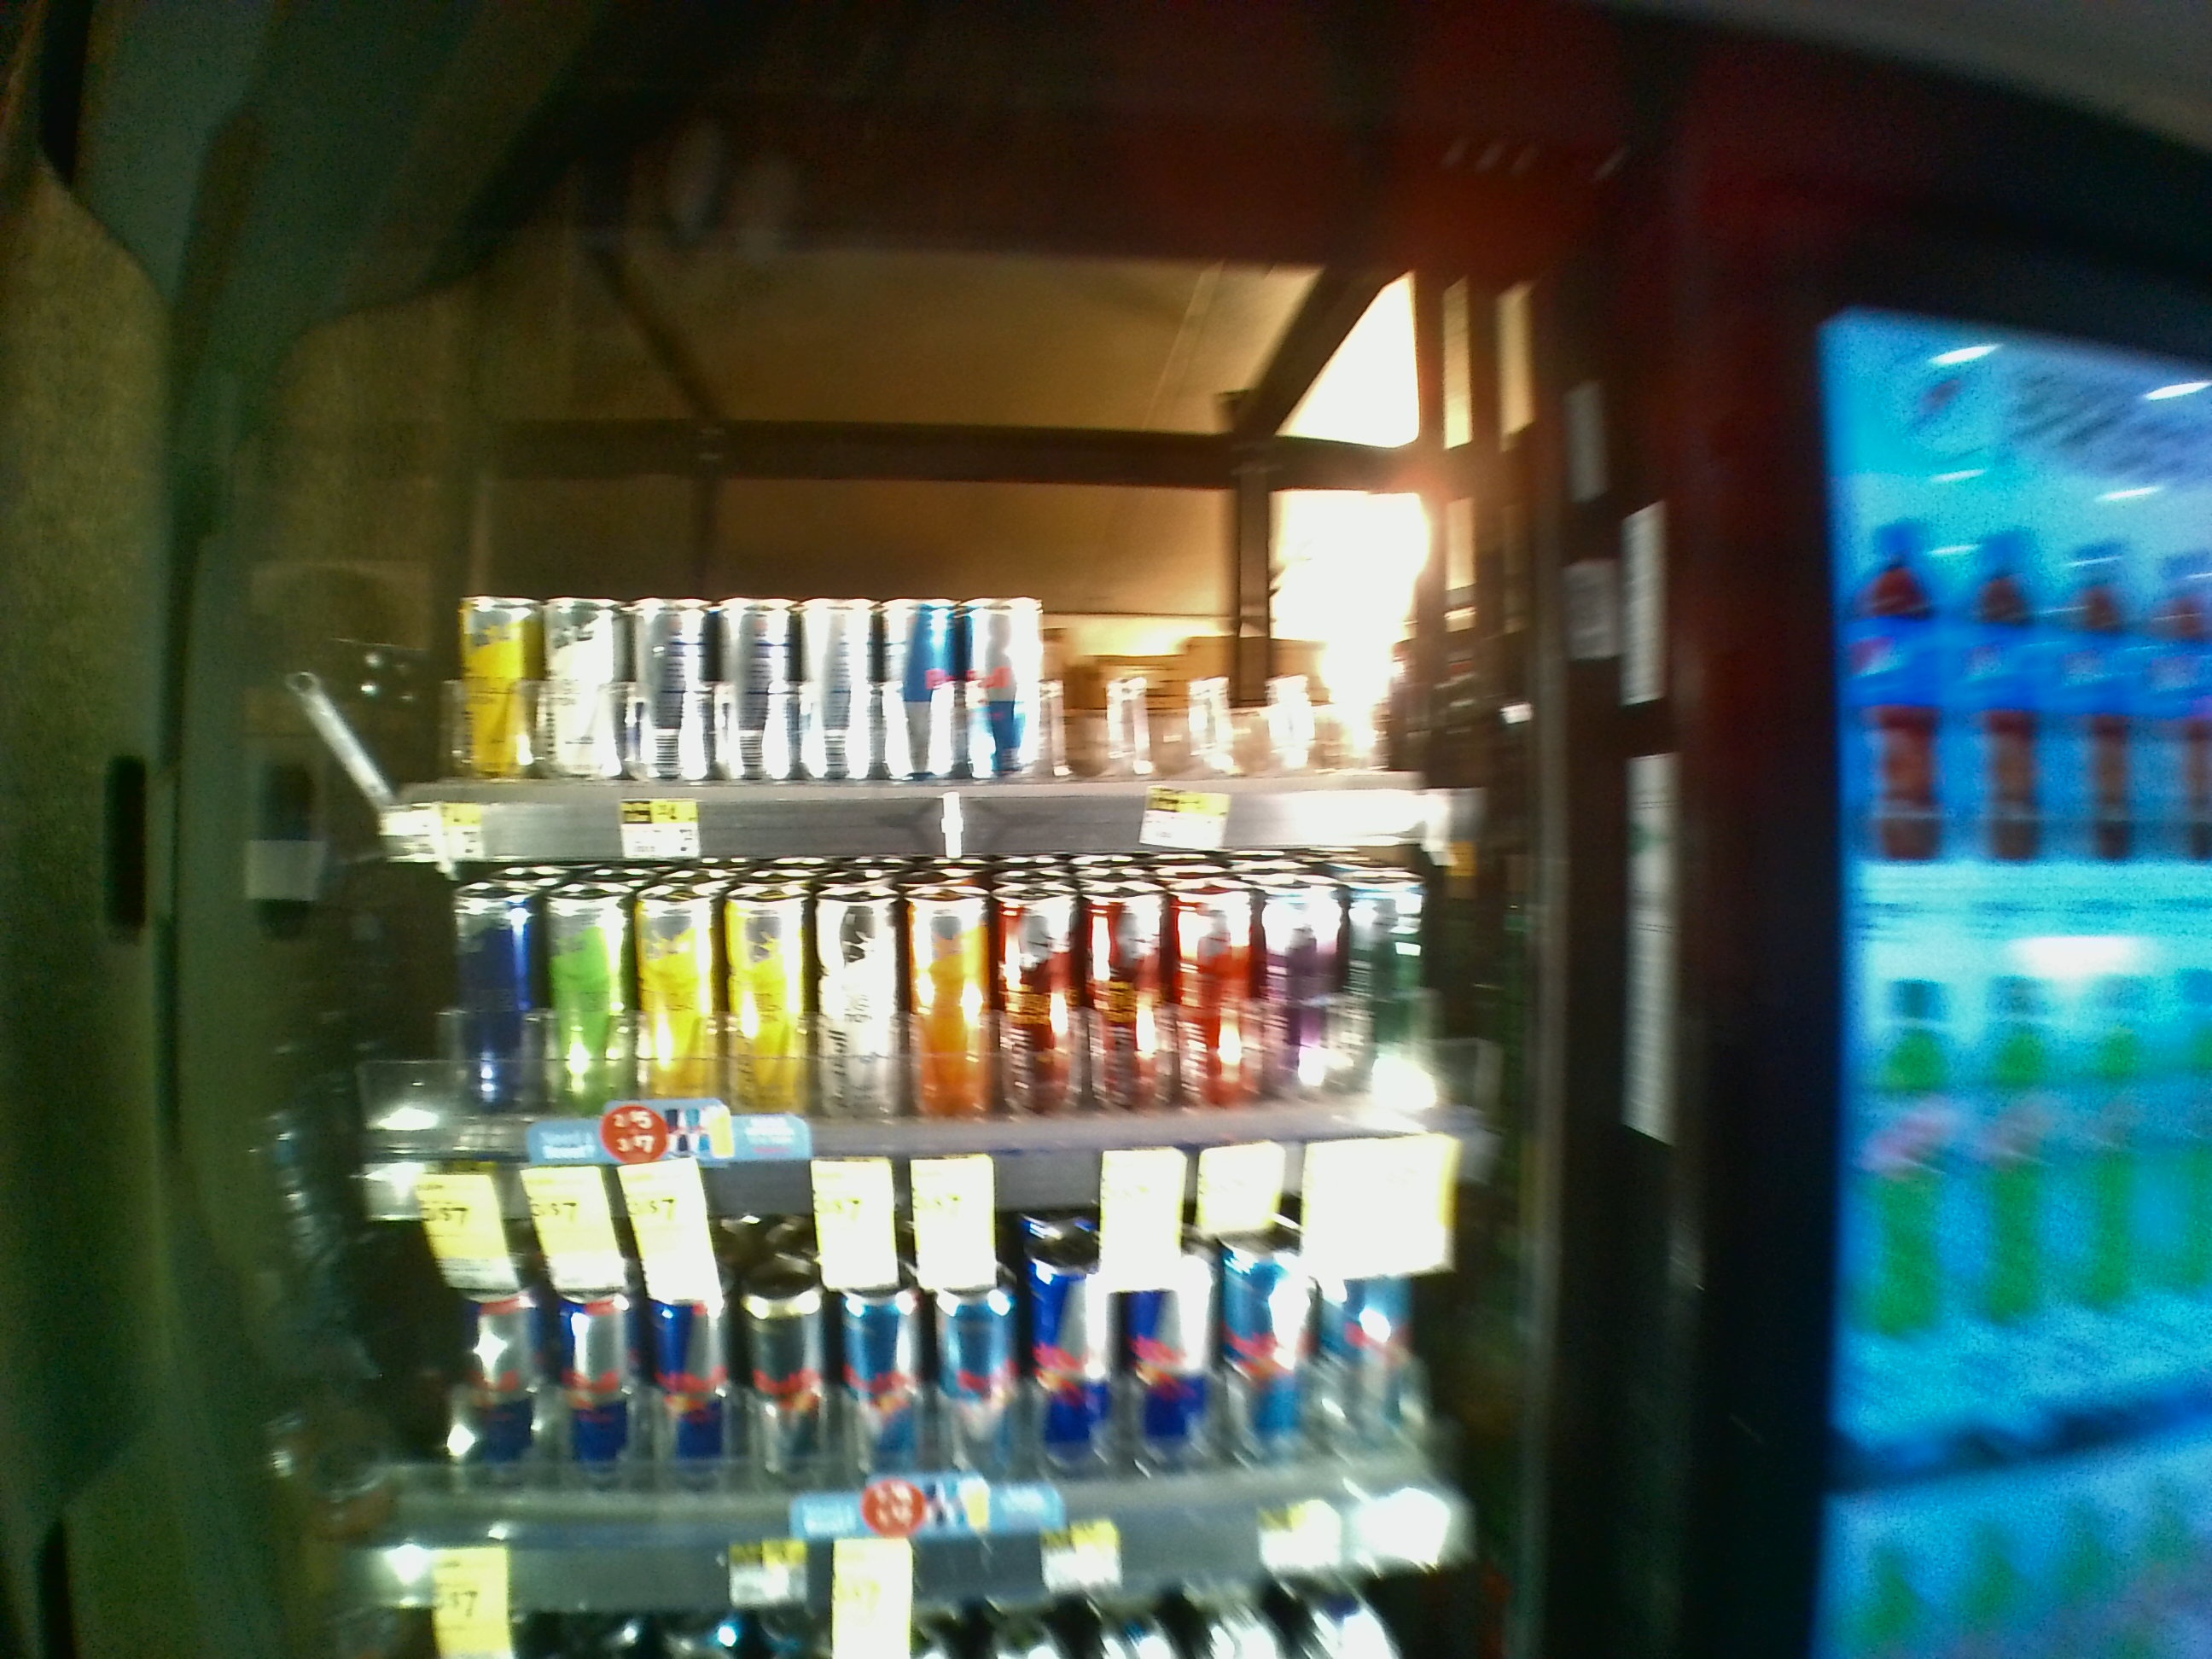shelf: (352, 235, 1519, 852), (340, 849, 1529, 1222)
